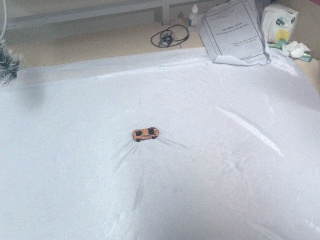toy_car: (132, 127, 159, 142)
